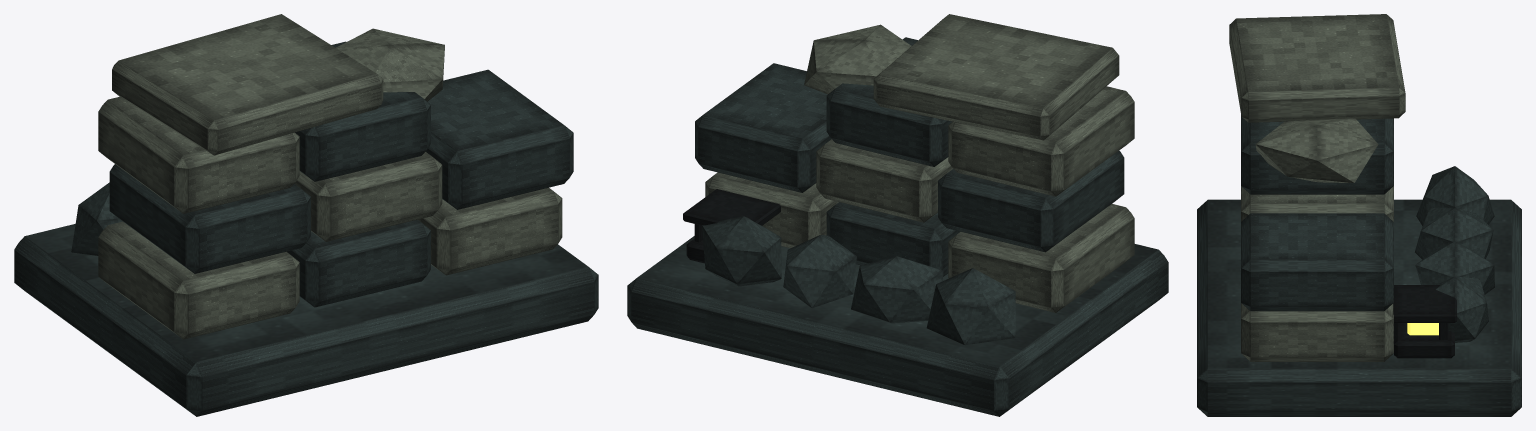
File: THStage_Bay_01_BrokenWall.fbx
3 views of the same model, side by side, from view 1: azimuth 30°, elevation 25°; view 2: azimuth 150°, elevation 25°; view 3: azimuth 270°, elevation 25° (orthographic). The views are drawn at different scales.
Parts seen in each view (by area): view 1: THStage_Bay_01_BrokenWall.010; view 2: THStage_Bay_01_BrokenWall.010; view 3: THStage_Bay_01_BrokenWall.010.
Boxes of the visible parts, x1,y1,x2,y2 form: THStage_Bay_01_BrokenWall.010: (14, 14, 598, 416); THStage_Bay_01_BrokenWall.010: (627, 14, 1168, 416); THStage_Bay_01_BrokenWall.010: (1197, 14, 1521, 416).
Size of the model in its own units: 1.1 by 0.705 by 0.85.
2 materials, 1 textured.
